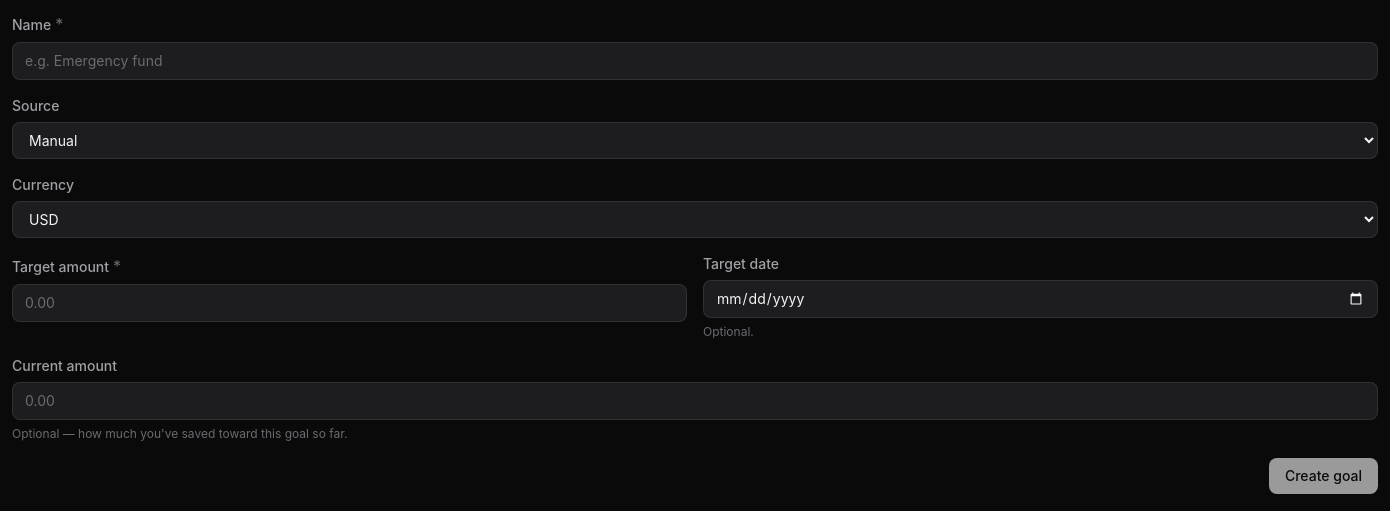
Test: GoalForm › hides the manual amount field and shows an account picker when switching to account
Select "Account" in the dropdown labelled "Source". click: (695, 140)
box: [12,122,1378,159]
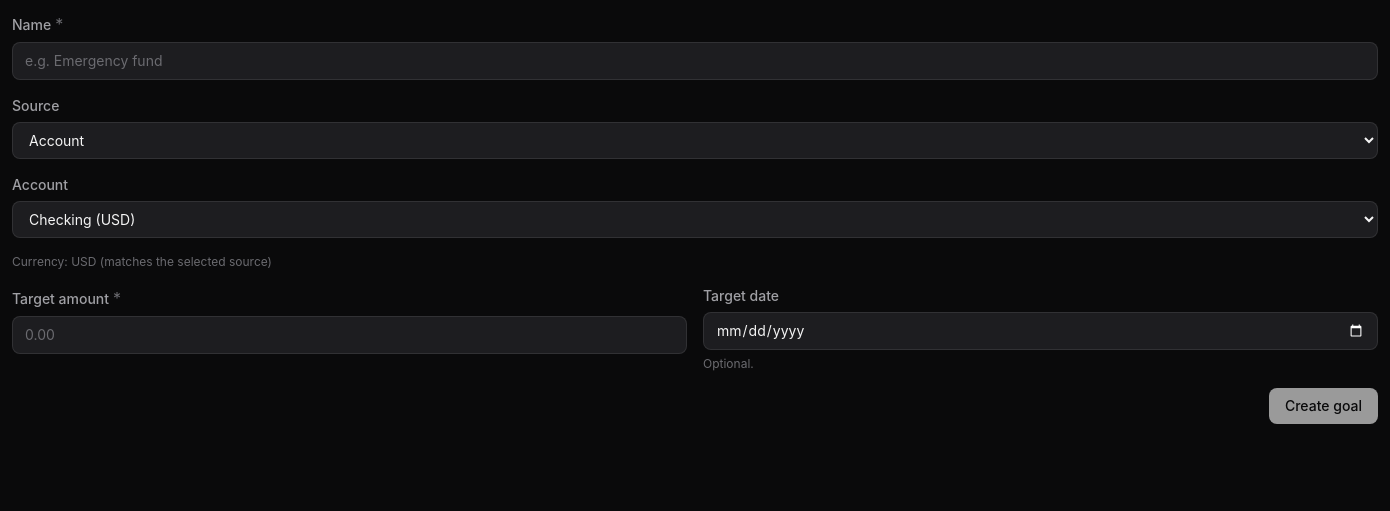
Expected: the label labelled "Current amount" is gone
Expected: the dropdown labelled "Account" is shown, [12,201,1378,238]
